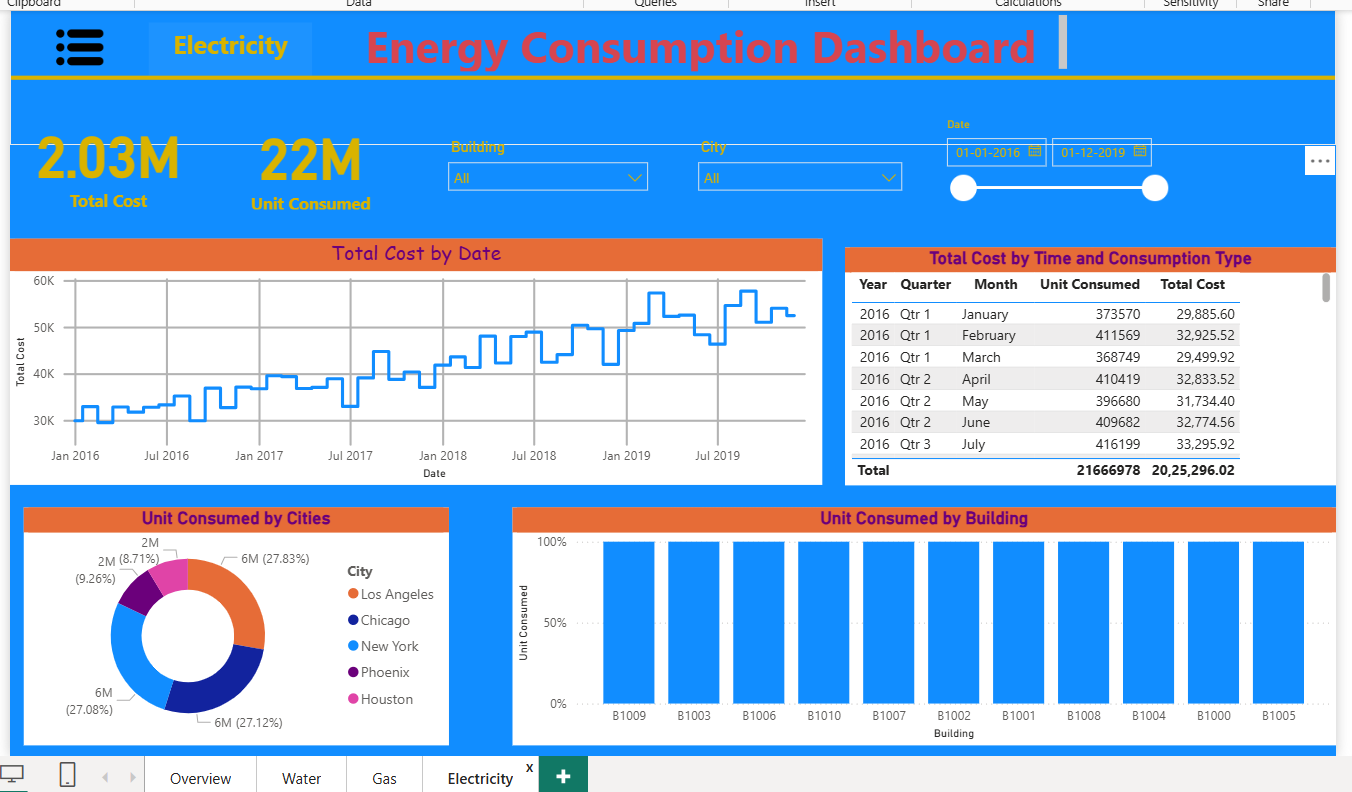

What the dashboard file says about the page in this screenshot:
{"tool":"powerbi","page":{"name":"Electricity","canvas":[1280,720],"ordinal":3},"visuals":[{"type":"shape","box":[0,0,1280.3,130.7],"z":0},{"type":"image","box":[29.6,8.1,74.1,55.3],"z":1000},{"type":"textbox","box":[337.6,0,687.2,64.6],"z":2000},{"type":"textbox","box":[133.4,12.1,157.7,51.2],"z":3000},{"type":"card","fields":{"Values":["Energy Consumptions.Total Cost"]},"box":[0,84.9,190,122.6],"z":4000},{"type":"card","fields":{"Values":["Energy Consumptions.Unit Consumed"]},"box":[190,98.4,199.5,98.4],"z":5000},{"type":"slicer","fields":{"Values":["Energy Consumptions.Building"]},"box":[412.4,118.6,212.9,79.5],"z":6000},{"type":"slicer","fields":{"Values":["Building Master.City"]},"box":[653.6,118.6,217,72.8],"z":7000},{"type":"slicer","fields":{"Values":["Energy Consumptions.Date"]},"box":[892.1,98.4,234.5,109.2],"z":8000},{"type":"tableEx","title":"Total Cost by Time and Consumption Type","fields":{"Values":["Energy Consumptions.Date.Variation.Date Hierarchy.Year","Energy Consumptions.Date.Variation.Date Hierarchy.Quarter","Energy Consumptions.Date.Variation.Date Hierarchy.Month","Energy Consumptions.Unit Consumed","Energy Consumptions.Total Cost"]},"box":[805.9,229.2,474.1,229.2],"z":9000},{"type":"donutChart","title":"Unit Consumed by Cities","fields":{"Y":["Energy Consumptions.Unit Consumed"],"Category":["Building Master.City"]},"box":[13.3,480.2,410.2,229.2],"z":10000},{"type":"hundredPercentStackedColumnChart","fields":{"Y":["Energy Consumptions.Unit Consumed"],"Category":["Energy Consumptions.Building"]},"box":[485,480.2,795,229.2],"z":11000},{"type":"lineChart","fields":{"Y":["Energy Consumptions.Total Cost"],"Category":["Energy Consumptions.Date"]},"box":[0,220.8,784.2,237.7],"z":12000}]}

Visuals, with their boxes on the page's 1280x720 design canvas (x1, y1, x2, y2). These are canvas units, not pixel positions in the 1352x792 screenshot, which may show the page scaled, cropped or inside an application window:
shape: locate(0, 0, 1280, 131)
image: locate(30, 8, 104, 63)
textbox: locate(338, 0, 1025, 65)
textbox: locate(133, 12, 291, 63)
card - Energy Consumptions.Total Cost: locate(0, 85, 190, 208)
card - Energy Consumptions.Unit Consumed: locate(190, 98, 390, 197)
slicer - Energy Consumptions.Building: locate(412, 119, 625, 198)
slicer - Building Master.City: locate(654, 119, 871, 191)
slicer - Energy Consumptions.Date: locate(892, 98, 1127, 208)
"Total Cost by Time and Consumption Type" tableEx: locate(806, 229, 1280, 458)
"Unit Consumed by Cities" donutChart: locate(13, 480, 424, 709)
hundredPercentStackedColumnChart - Energy Consumptions.Unit Consumed x Energy Consumptions.Building: locate(485, 480, 1280, 709)
lineChart - Energy Consumptions.Total Cost x Energy Consumptions.Date: locate(0, 221, 784, 458)
